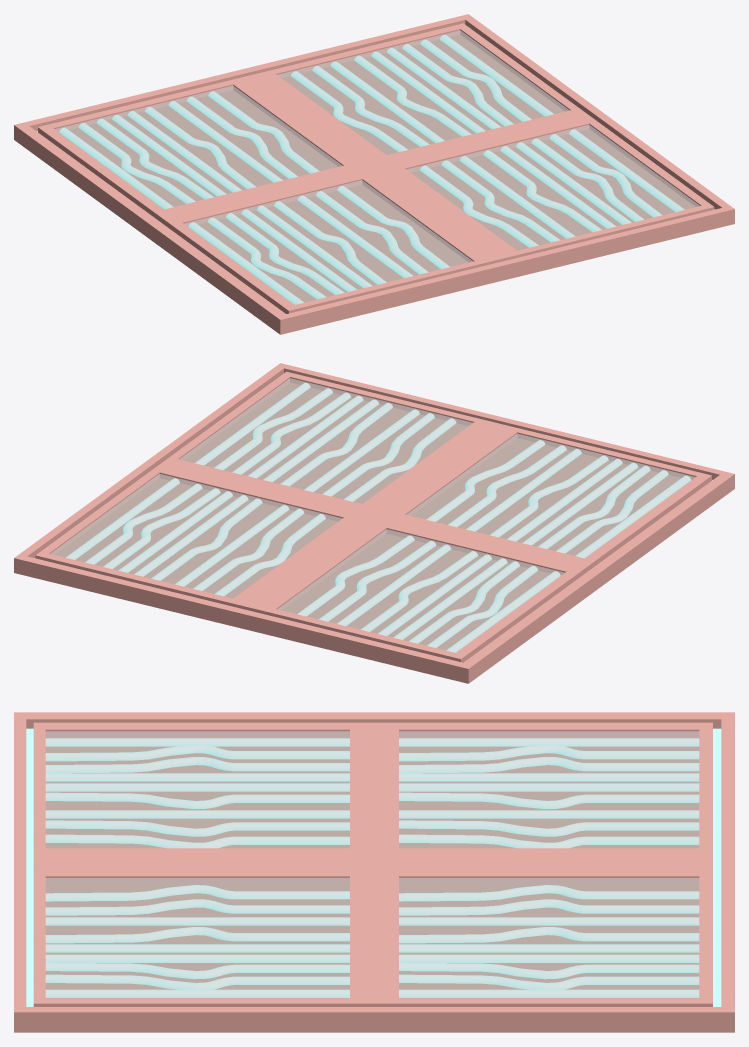
The model's file is floor_tile.glb.
The picture shows the model from 3 angles, top to bottom: view 1: azimuth 30°, elevation 25°; view 2: azimuth 150°, elevation 25°; view 3: azimuth 270°, elevation 25°; orthographic projection. The views are drawn at different scales.
Visible parts, largest first — view 1: Cube; view 2: Cube; view 3: Cube.
Boxes of the visible parts, x1=… form: Cube: x1=14, y1=14, x2=734, y2=334; Cube: x1=14, y1=363, x2=734, y2=683; Cube: x1=14, y1=712, x2=734, y2=1032.
Size of the model in its own units: 1005 by 31.46 by 1020.
